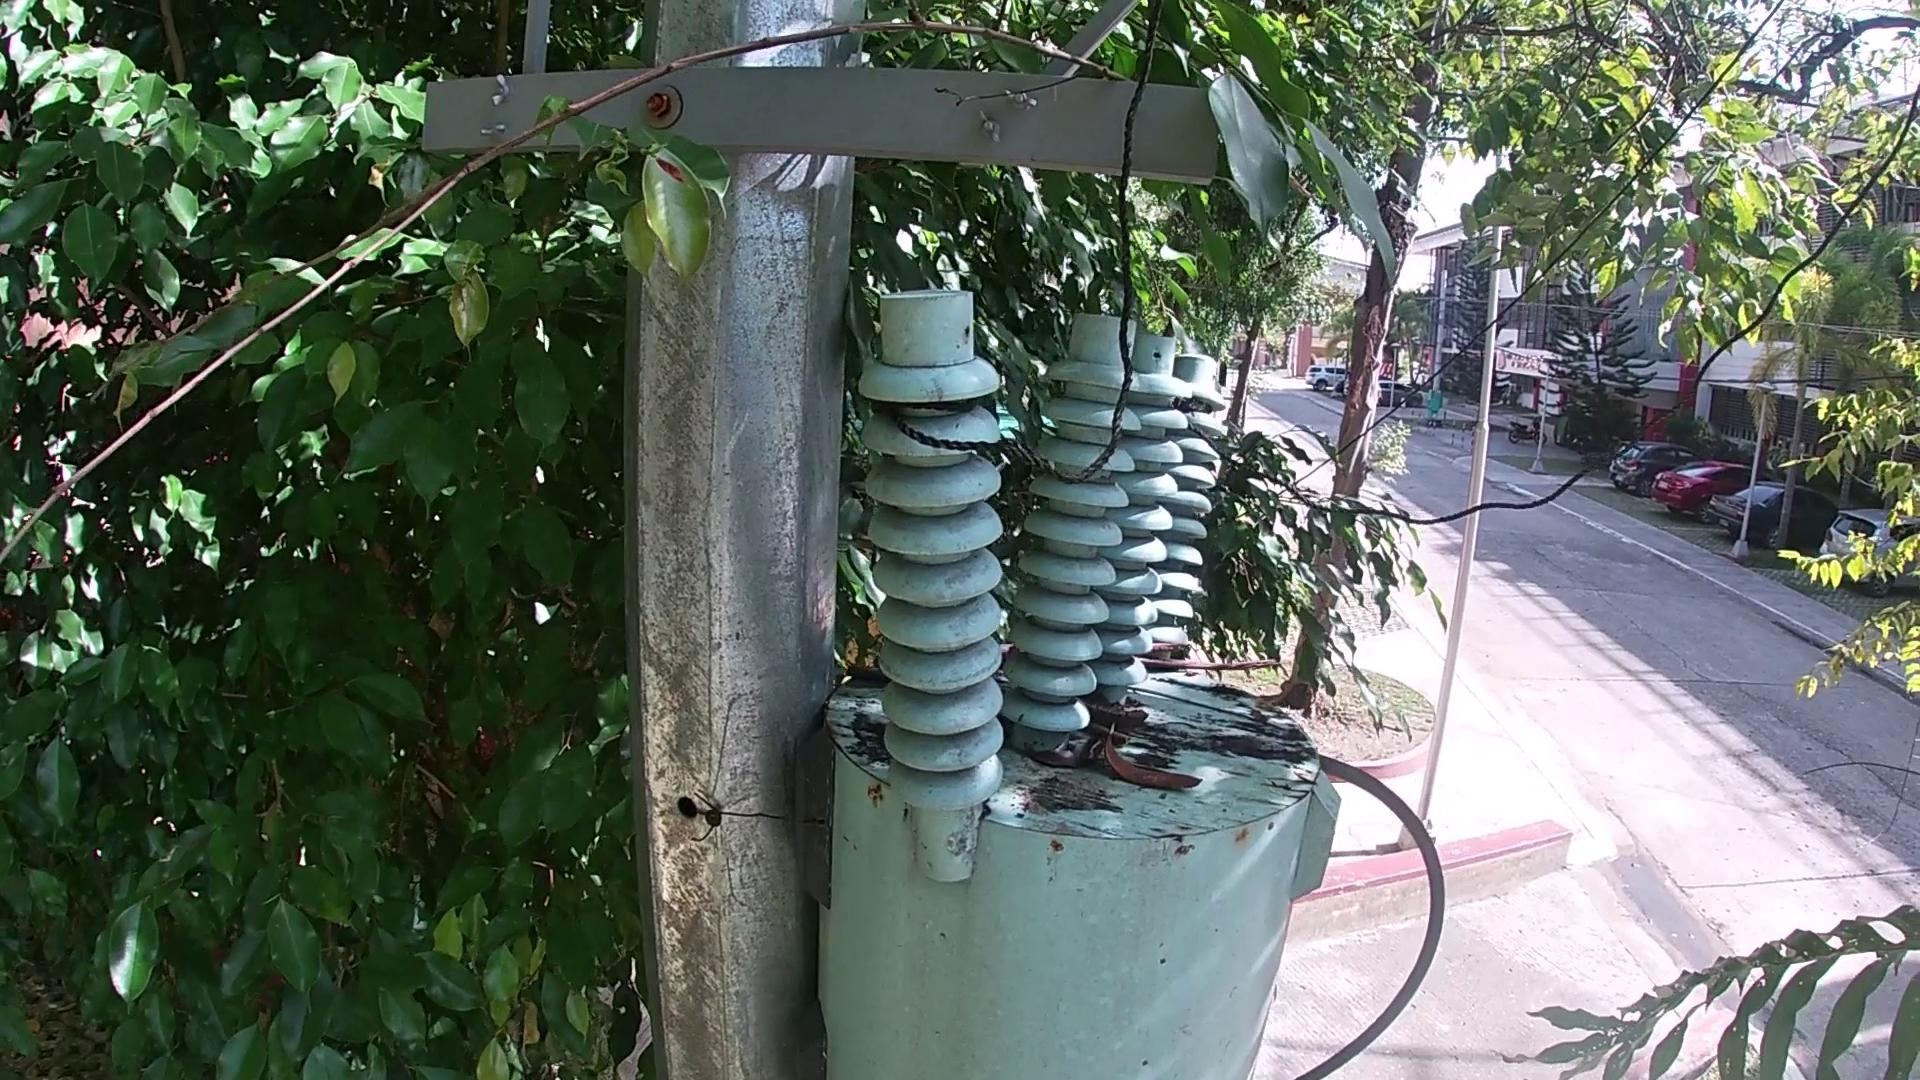leaf: (1036, 746, 1088, 774)
mahogany fruit: (1100, 742, 1207, 789), (1095, 709, 1156, 738)
tree branch: (5, 1, 1155, 546), (1127, 687, 1298, 733), (1135, 645, 1303, 674), (994, 641, 1021, 651)
